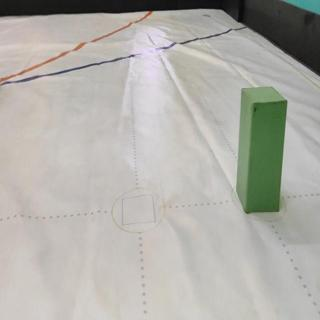greenbox: (234, 86, 288, 212)
